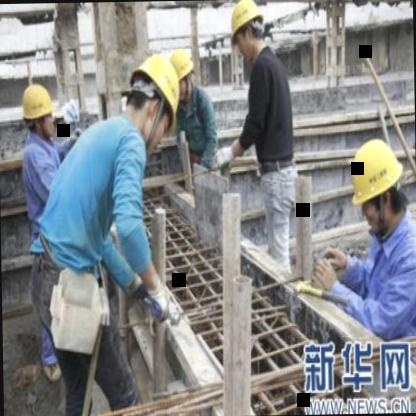helmet: (344, 131, 404, 237), (124, 50, 188, 142), (225, 0, 269, 65), (163, 42, 198, 108), (18, 79, 56, 139)
